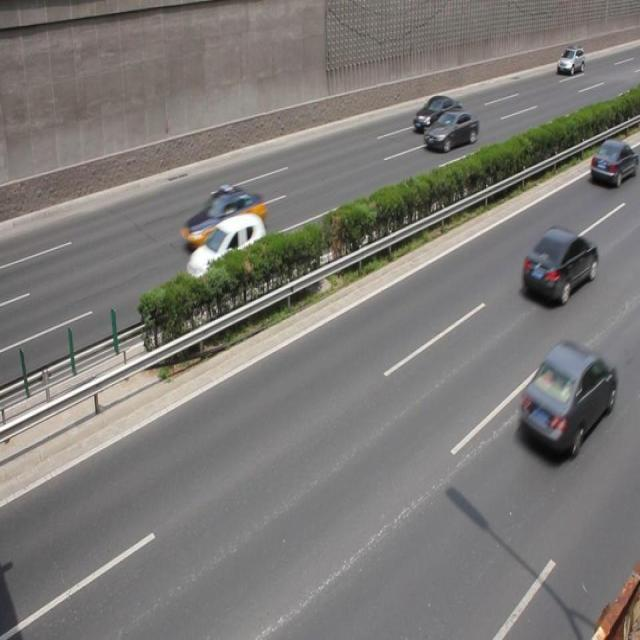car: (514, 340, 614, 459), (185, 216, 268, 297), (520, 227, 598, 305), (180, 185, 266, 254), (422, 110, 478, 152), (411, 94, 462, 135), (588, 139, 632, 186), (556, 47, 584, 76)
